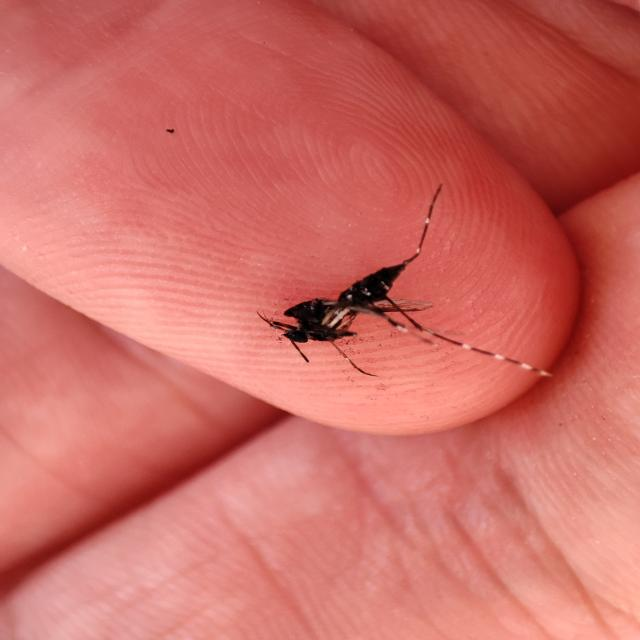albopictus: (245, 186, 535, 390)
